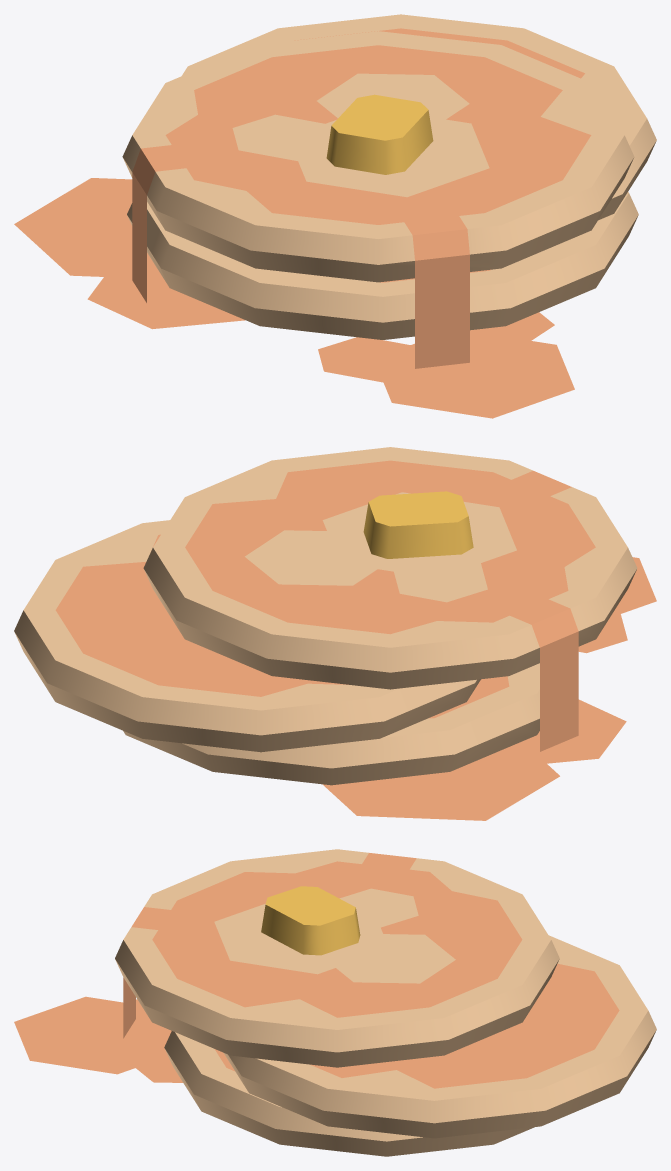
Rendered from pancakes.dae.
The picture shows the model from 3 angles, top to bottom: view 1: azimuth 30°, elevation 25°; view 2: azimuth 150°, elevation 25°; view 3: azimuth 270°, elevation 25°; orthographic projection. The views are drawn at different scales.
Parts seen in each view (by area): view 1: pancake (×3), pancakes, butter; view 2: pancake (×3), pancakes, butter; view 3: pancake (×3), pancakes, butter.
Part boxes in pixels (x1,y1,x2,y2): pancake (×3): (122,14,656,368); pancakes: (14,178,574,418); butter: (326,94,433,174); pancake (×3): (14,447,637,785); pancakes: (322,557,656,820); butter: (363,491,473,558); pancake (×3): (115,849,656,1156); pancakes: (14,996,182,1082); butter: (261,886,360,955).
Bounding box in the file's own units: 0.4355 × 0.1216 × 0.5039.
